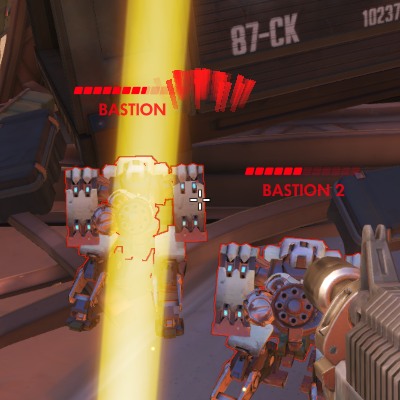hpbar: (72, 85, 193, 95), (243, 166, 362, 175)
